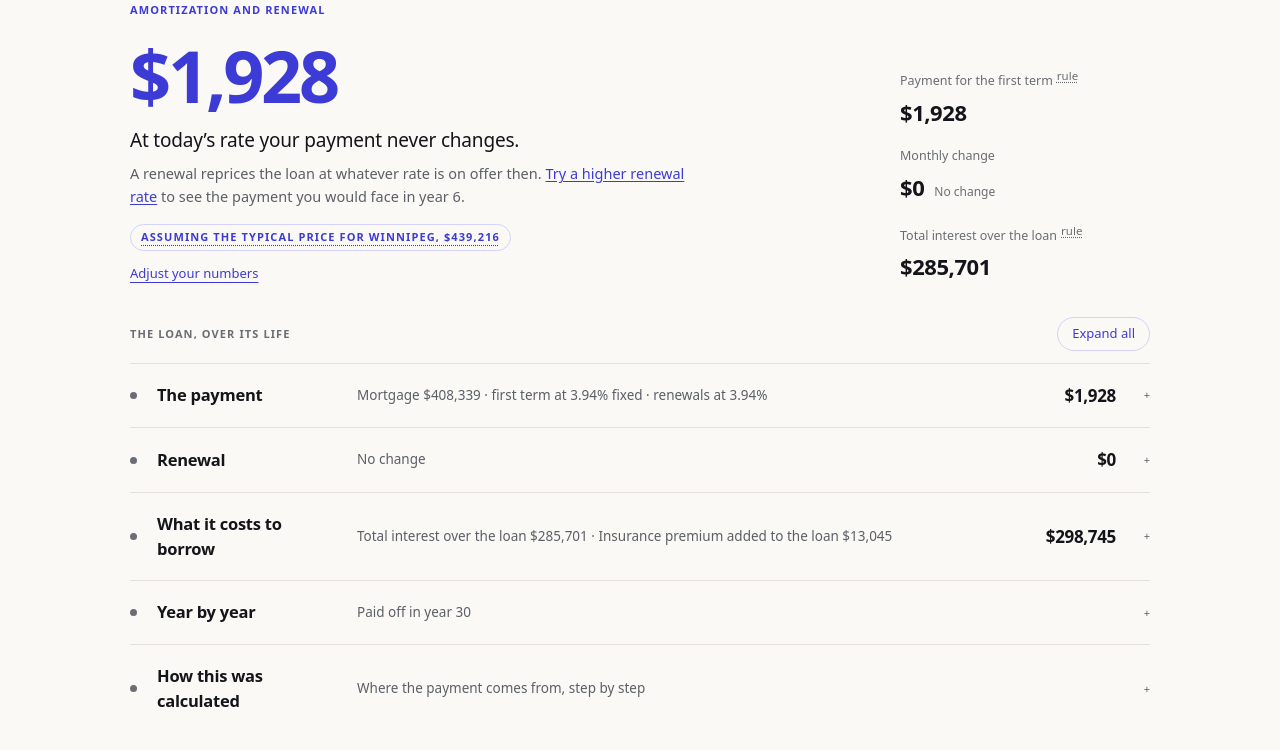
Test case: Amortization — the renewal panel leads with its controls › names no higher payment and no extra interest when nothing changes
Step 1. Click the button "Renewal No change $0 +" → point(191, 459), box [130,428,1150,492]
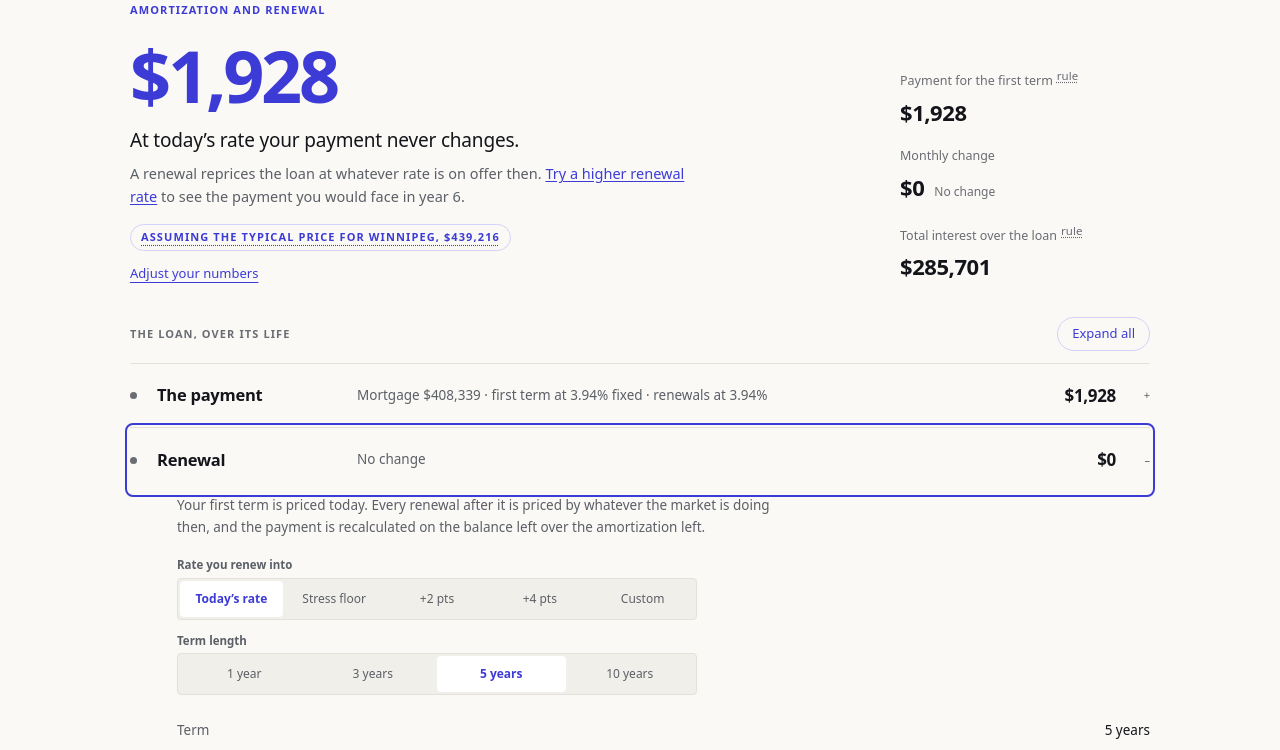
Expected: the text "A year, at the higher payment" is not shown
Expected: the text "Extra interest versus renewing at today’s rate" is not shown
Step 2. Click the radio button labelled "+4 pts" → point(540, 599), box [488,581,591,617]
(page scrolled)
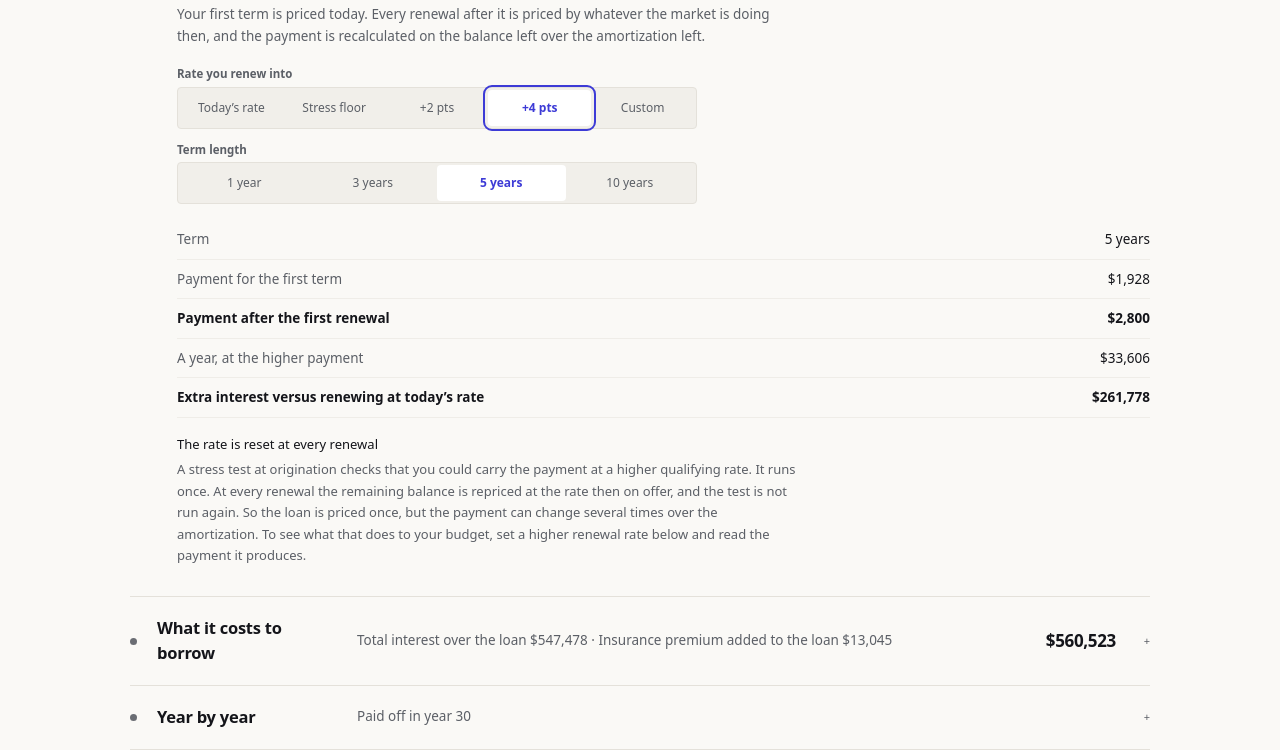
Now the text "A year, at the higher payment" is shown, box [177,349,363,367]
